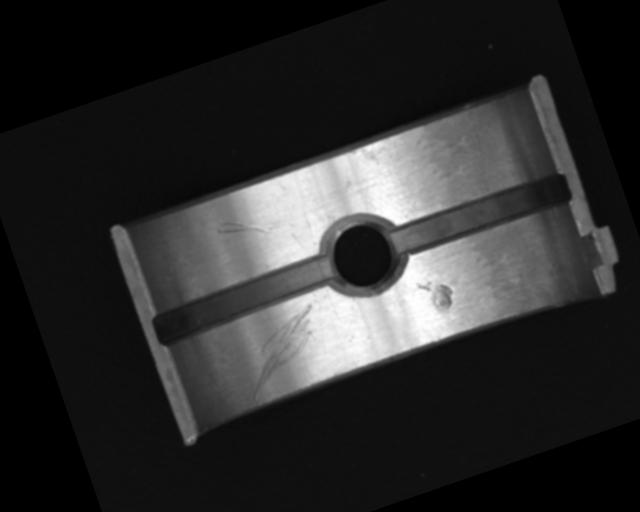bruise: (416, 273, 457, 316)
gap: (149, 251, 340, 347), (386, 169, 572, 260)
hole: (316, 206, 410, 302)
nick: (231, 303, 336, 401), (215, 205, 278, 251)
